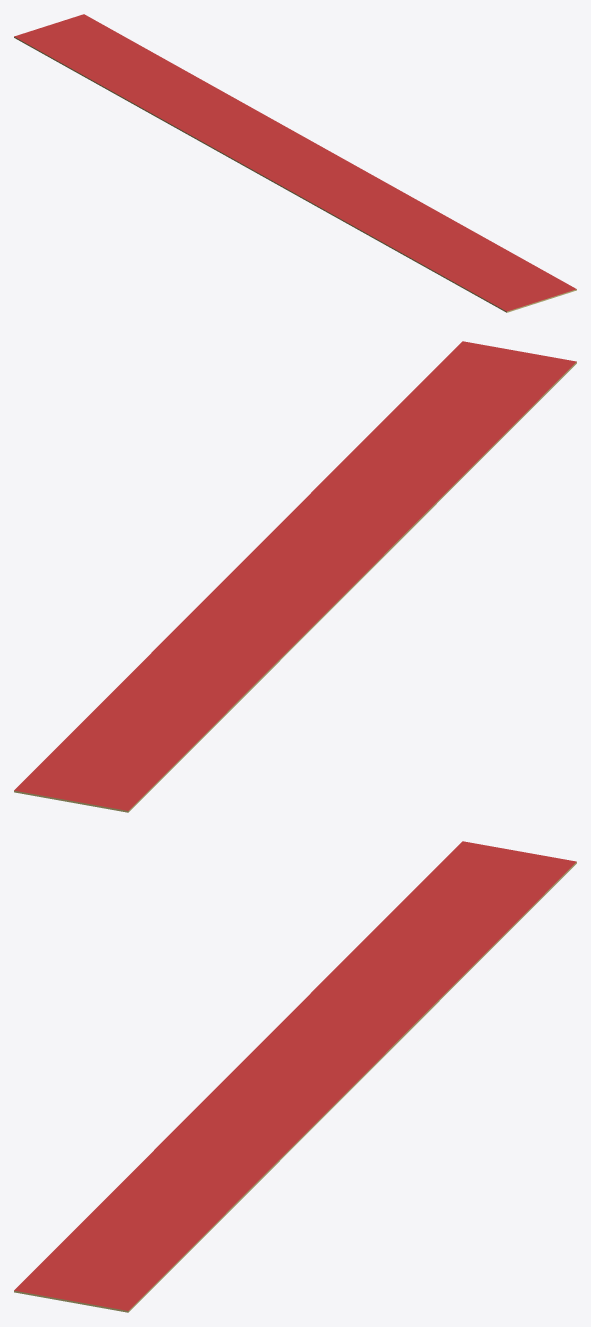
The picture shows the model from 3 angles, top to bottom: view 1: azimuth 30°, elevation 25°; view 2: azimuth 150°, elevation 25°; view 3: azimuth 330°, elevation 25°; orthographic projection. The views are drawn at different scales.
Bounding box in the file's own units: 13.57 × 59.09 × 0.1.
